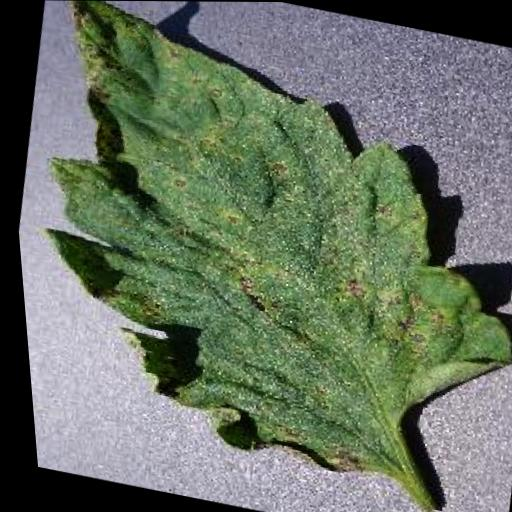Septoria: (0, 0, 512, 506)
